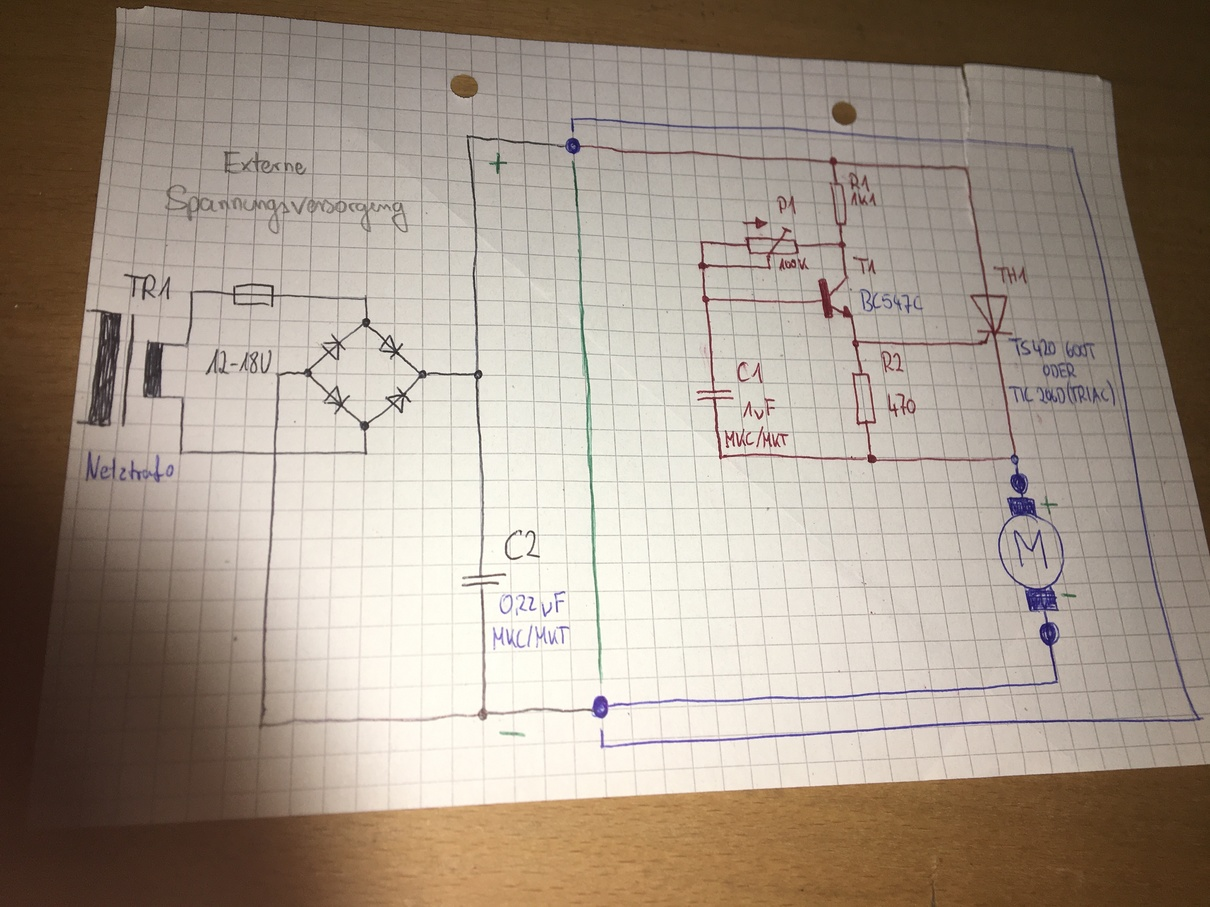capacitor.unpolarized: (459, 571, 508, 589), (694, 386, 737, 404)
crossover: (271, 448, 282, 459)
diode: (323, 385, 351, 415), (319, 332, 347, 361), (385, 386, 412, 414), (378, 334, 404, 360)
fuse: (230, 281, 277, 310)
junction: (475, 707, 491, 723), (864, 450, 880, 466), (358, 418, 373, 434), (1008, 451, 1022, 466), (471, 368, 485, 382), (302, 366, 317, 379), (415, 368, 430, 381), (696, 260, 712, 272), (360, 316, 373, 330), (827, 155, 841, 168), (850, 337, 863, 350), (255, 719, 267, 733), (836, 238, 848, 250), (360, 292, 372, 304), (361, 447, 372, 459), (700, 294, 712, 305), (960, 163, 972, 174), (715, 452, 726, 463), (181, 340, 193, 350), (177, 447, 187, 459), (177, 393, 188, 403), (1051, 676, 1061, 687), (274, 370, 285, 379), (188, 288, 198, 297), (698, 239, 707, 248), (464, 132, 472, 141), (765, 264, 774, 272)
motor: (996, 495, 1069, 614)
resistor: (849, 369, 880, 428), (827, 179, 848, 228)
resistor.adjustable: (743, 225, 801, 260)
terminal: (79, 306, 92, 316), (74, 418, 81, 426)
text: (163, 183, 413, 235), (84, 449, 176, 485), (1008, 379, 1118, 408), (222, 148, 309, 178), (1007, 336, 1098, 362), (490, 622, 572, 650), (498, 589, 567, 619), (203, 347, 274, 376), (858, 287, 924, 316), (723, 425, 790, 450), (122, 271, 173, 303), (503, 528, 543, 563), (741, 397, 778, 422), (885, 391, 918, 419), (992, 264, 1030, 286), (735, 359, 764, 386), (1041, 361, 1080, 380), (880, 348, 906, 374), (851, 254, 879, 276), (775, 194, 800, 218), (777, 256, 811, 273), (847, 170, 872, 193), (849, 191, 879, 208)
thyristor: (967, 292, 1015, 348)
transformer: (85, 309, 167, 429)
transistor: (817, 275, 856, 321)
